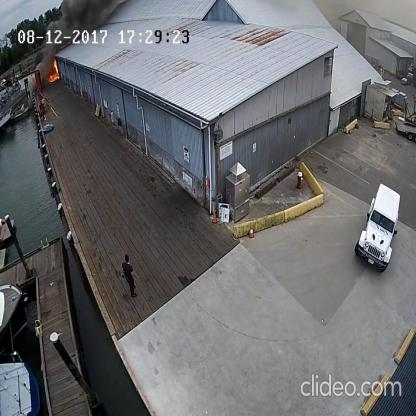fire: (46, 57, 60, 83)
